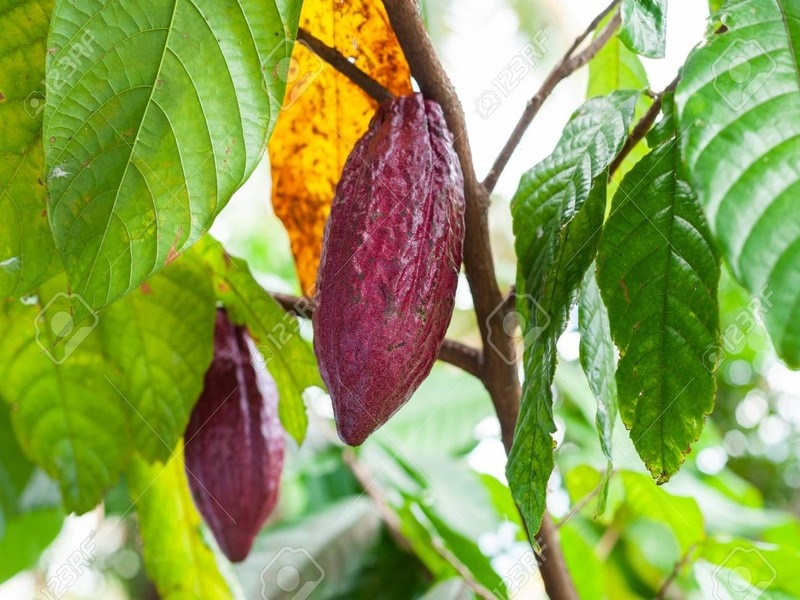Cacaopod: (308, 78, 498, 458), (308, 78, 468, 461)
